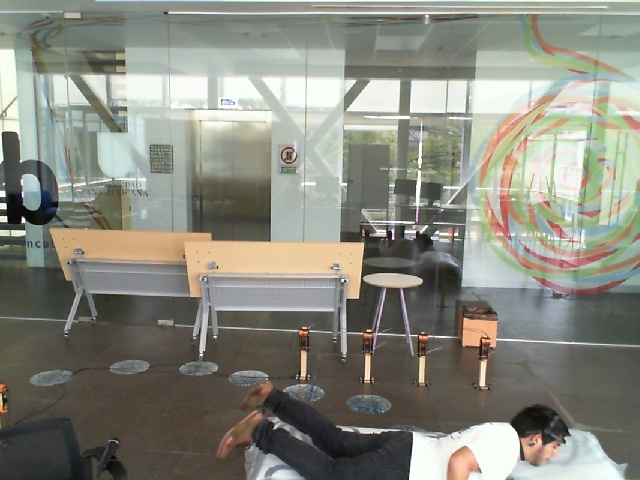fall: (193, 402, 579, 480)
